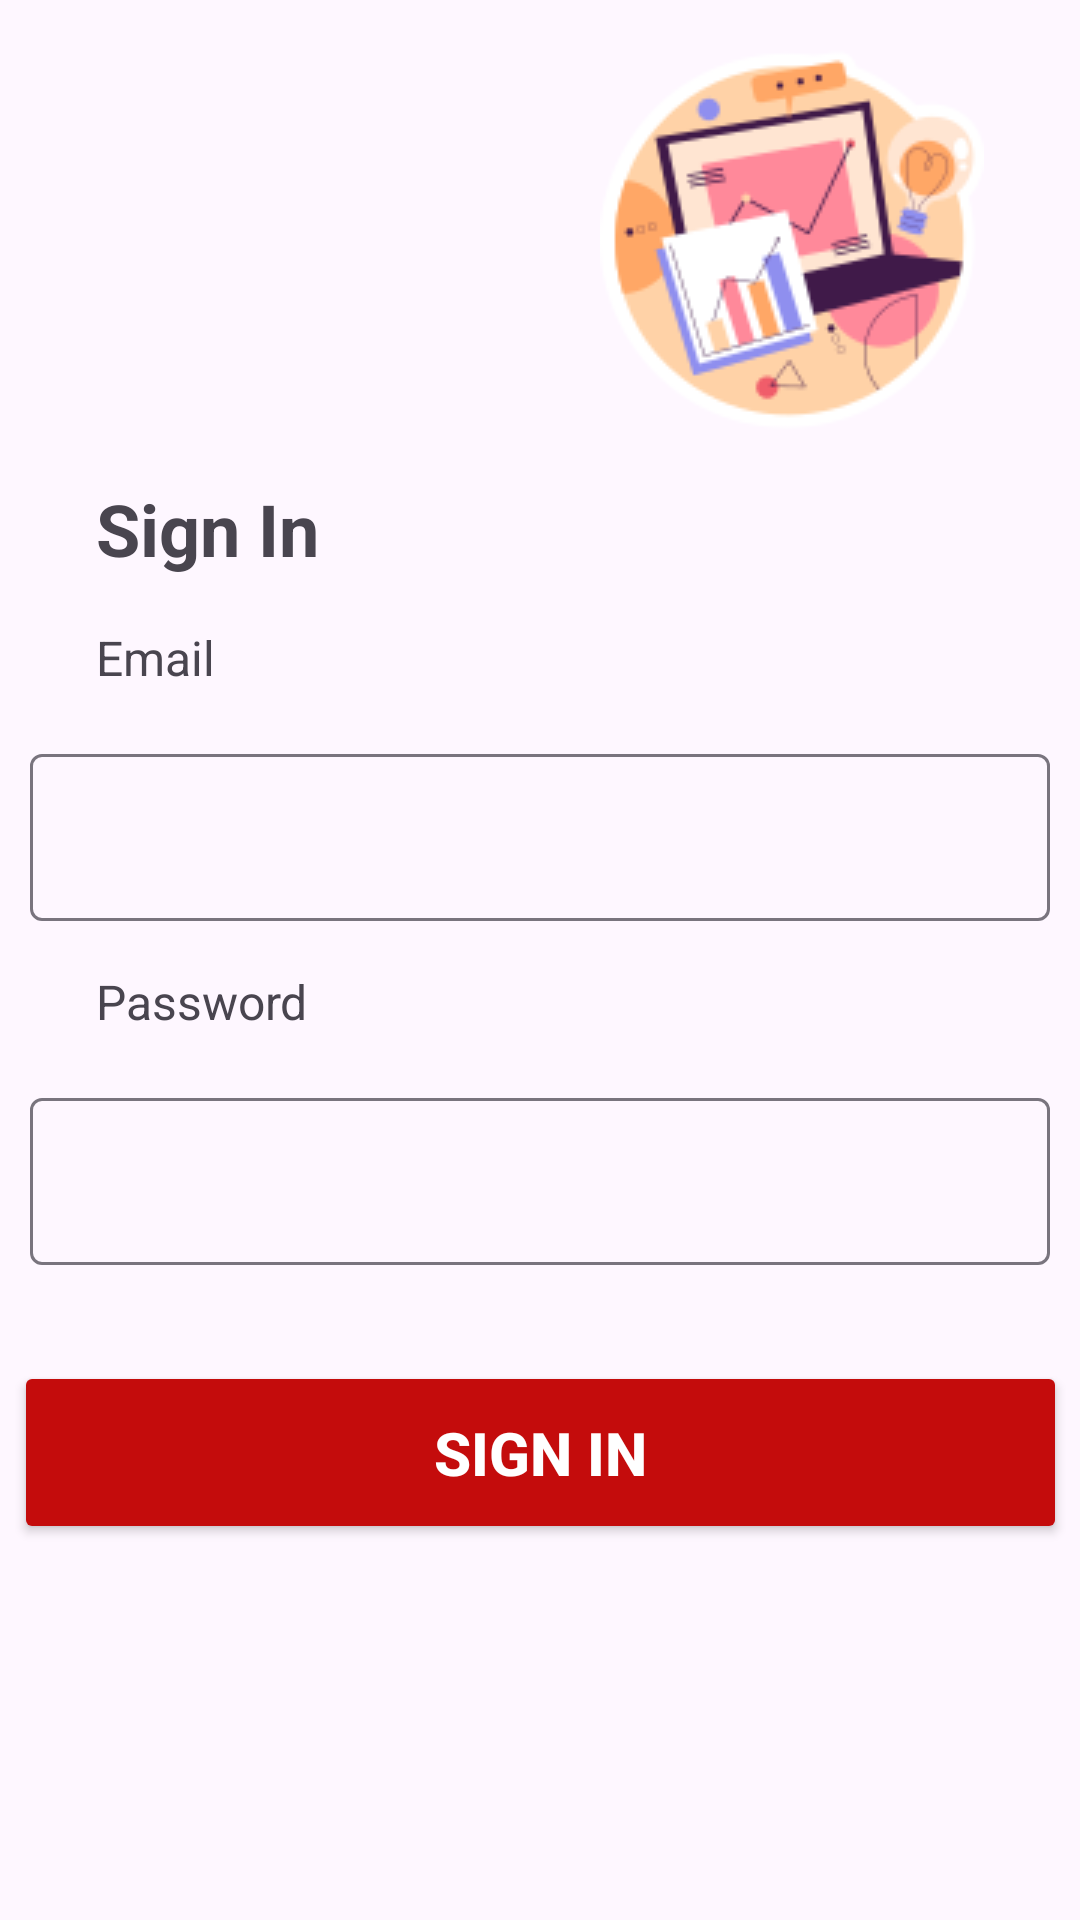

Icons on this 1080*1920 Android screen, each with its box as (x1, y1, x2, y2):
data: (614, 60, 973, 416)
